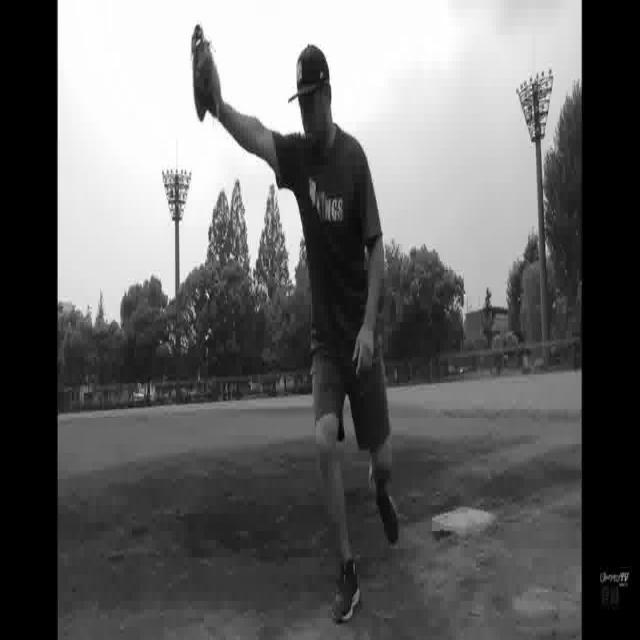base: (431, 501, 494, 535)
baseball_glove: (186, 22, 224, 126)
shoe: (368, 462, 402, 540), (330, 559, 361, 624)
